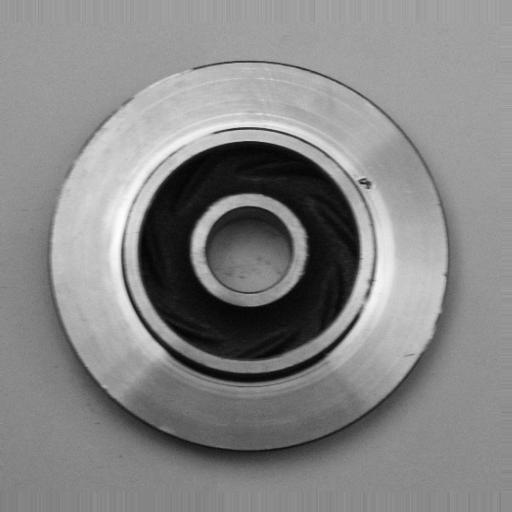crack: (354, 166, 385, 198)
unpolished_casting: (45, 59, 453, 458)
